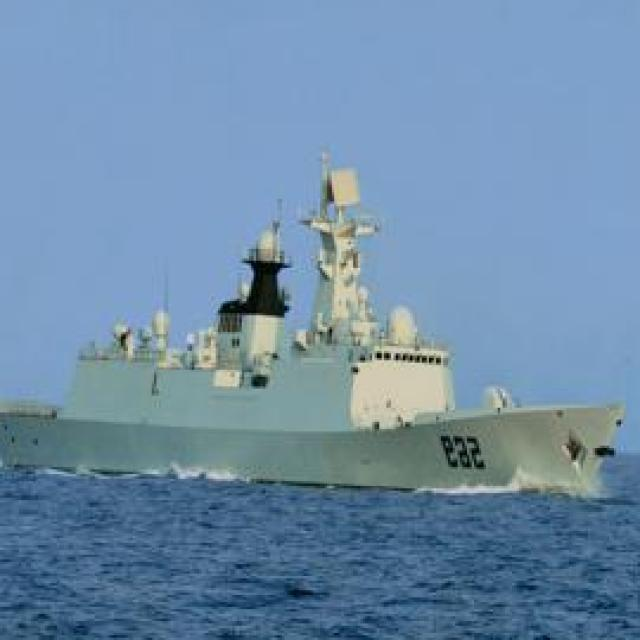navalvessels: (0, 156, 636, 492)
